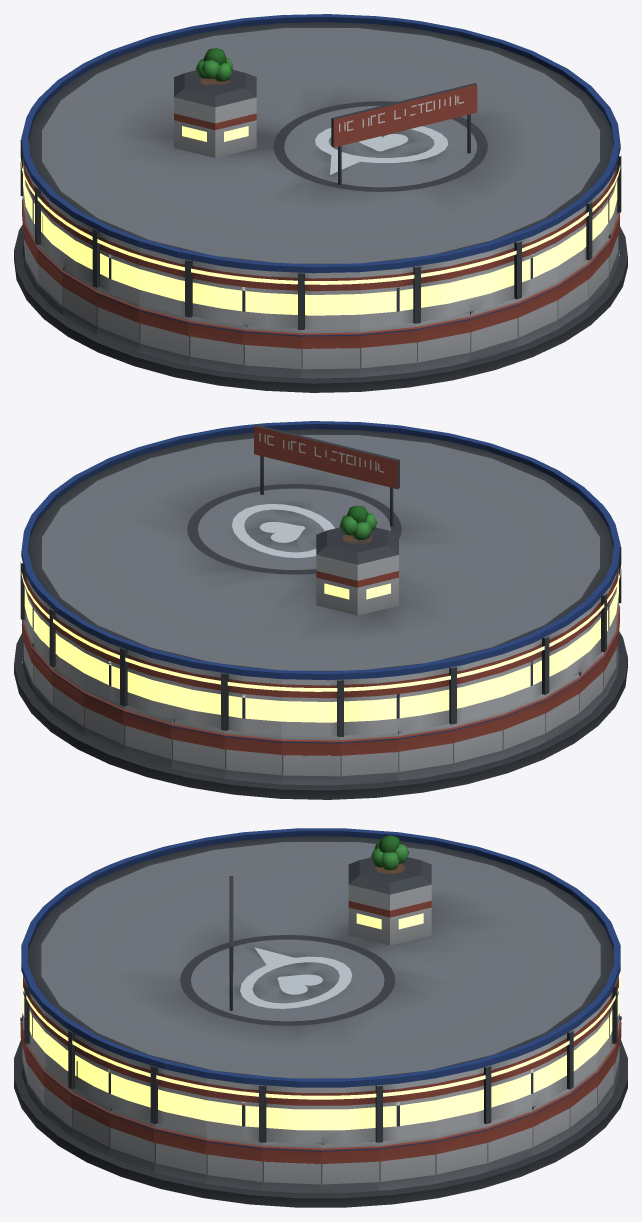
The model's file is hr_office_m_far.glb.
3 renders of one model, top to bottom at view 1: azimuth 30°, elevation 25°; view 2: azimuth 150°, elevation 25°; view 3: azimuth 270°, elevation 25°, orthographic.
Visible parts, largest first — view 1: Roof, Base; view 2: Roof, Base; view 3: Roof, Base.
Part boxes in pixels (x1,y1,x2,y2): Roof: [20, 14, 621, 329]; Base: [14, 197, 627, 392]; Roof: [20, 421, 621, 736]; Base: [14, 604, 627, 799]; Roof: [20, 828, 621, 1144]; Base: [14, 1012, 627, 1207].
Bounding box in the file's own units: 14.75 × 5.5 × 14.75.
